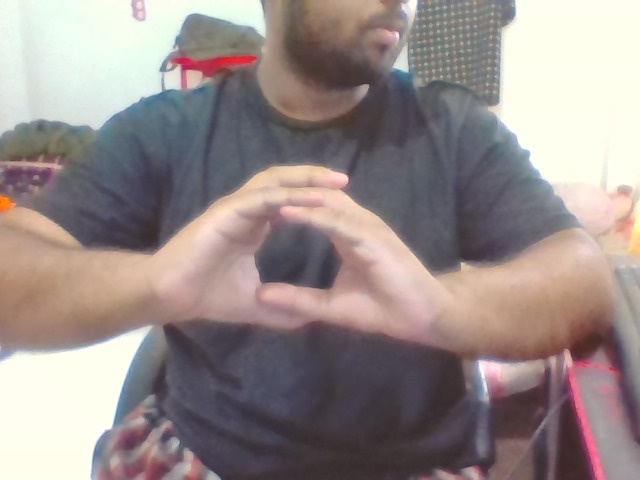O: (178, 144, 421, 364)
